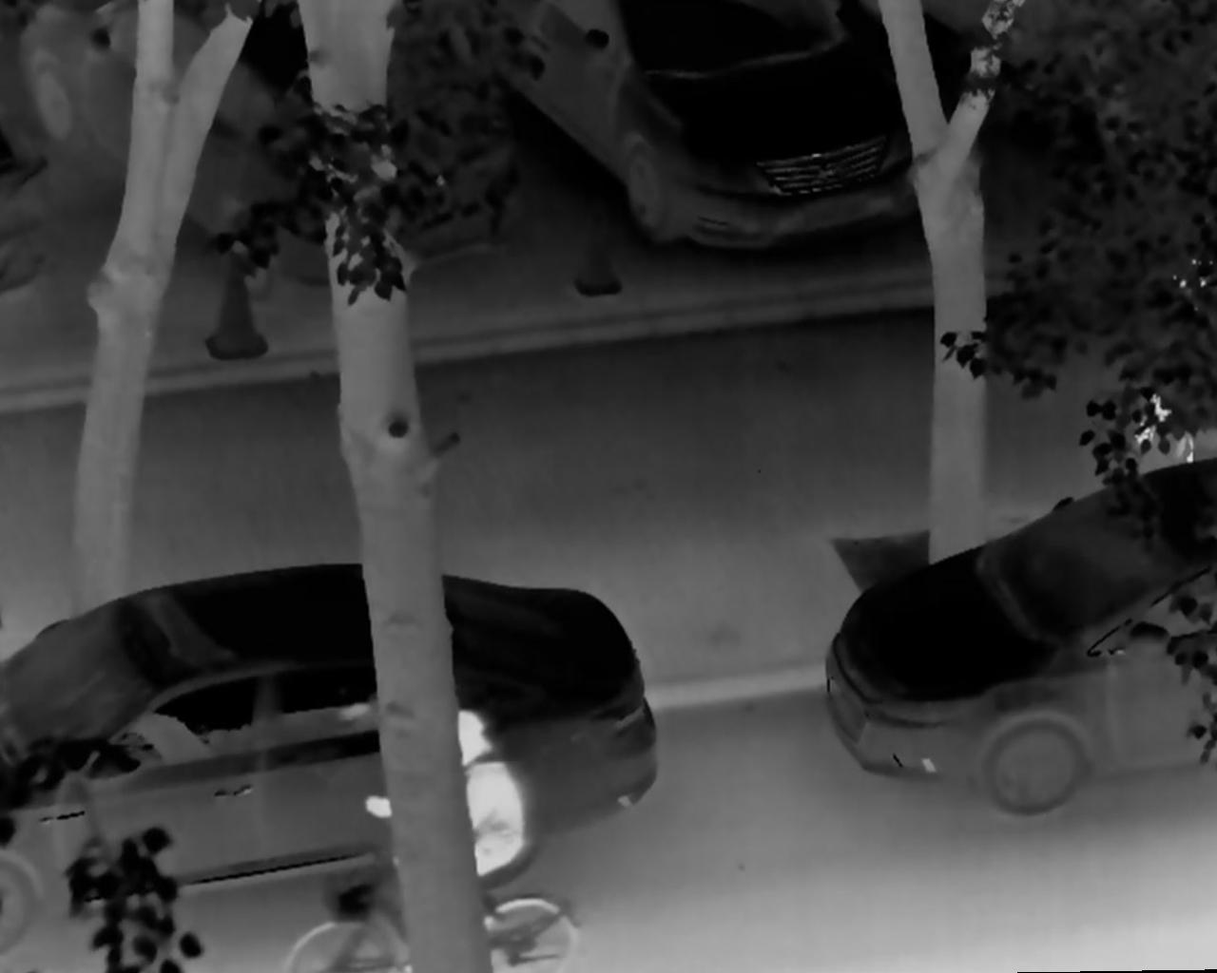person: (346, 692, 524, 930), (1130, 205, 1214, 469)
